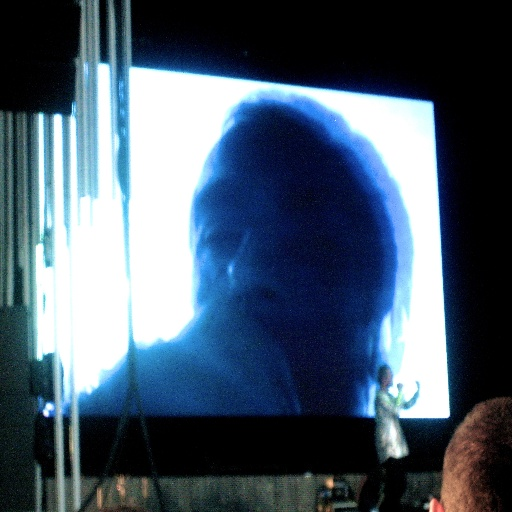hand: (412, 375, 421, 387), (397, 380, 403, 390)
